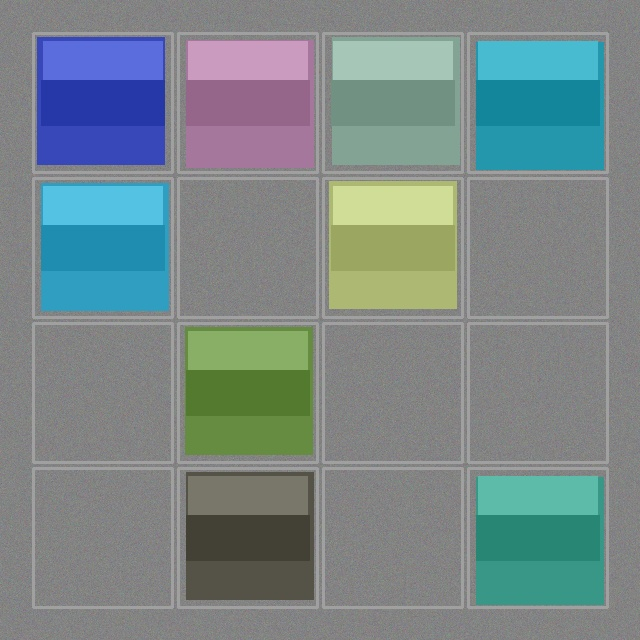space-empty: (180, 180, 315, 315), (470, 180, 605, 315), (35, 325, 170, 460), (325, 325, 460, 460), (470, 325, 605, 460), (35, 470, 170, 605), (325, 470, 460, 605)
space-occupied: (35, 35, 170, 170), (180, 35, 315, 170), (325, 35, 460, 170), (470, 35, 605, 170), (35, 180, 170, 315), (325, 180, 460, 315), (180, 325, 315, 460), (180, 470, 315, 605), (470, 470, 605, 605)
